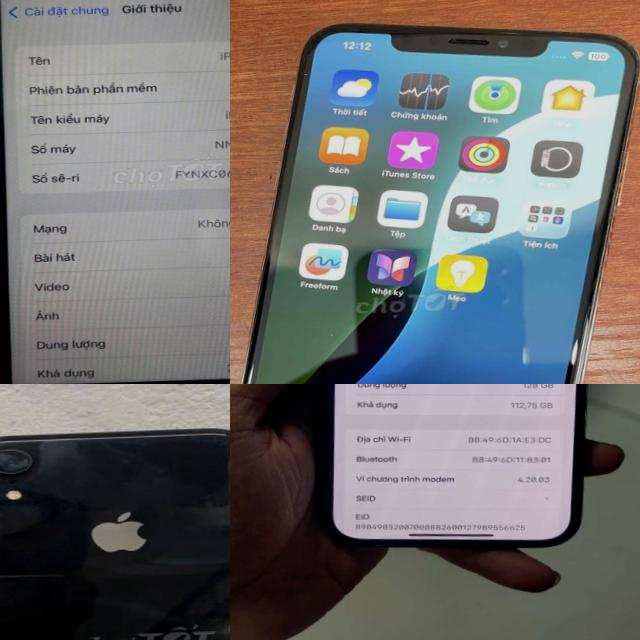scratch: (287, 66, 324, 84)
